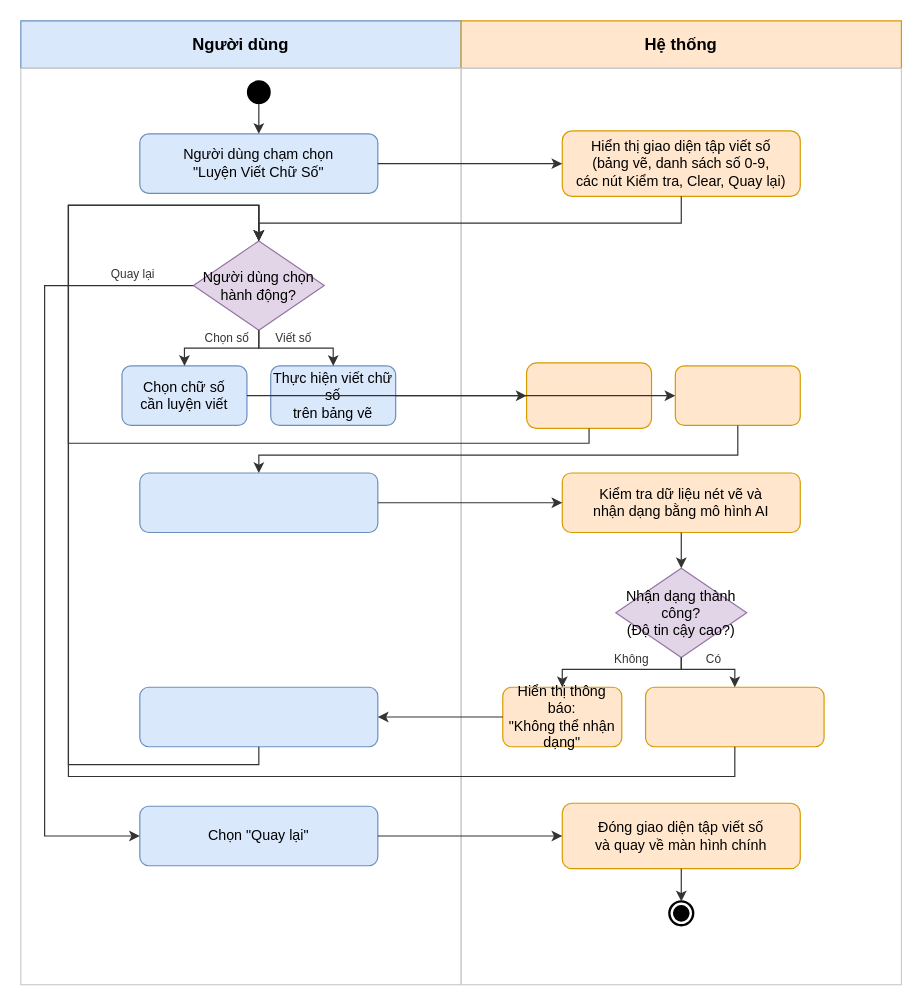
This 922x1006 diagram has some shape labels left out. Here are the shapes that lost their labels. From the top down, the centre of each, then its label:
point 588,395: Cập nhật chữ số mẫu tương ứng và làm mới bảng vẽ
point 737,395: Ghi nhận nét vẽ và hiển thị nét viết theo thời gian thực
point 258,502: Chọn "Kiểm tra" để yêu cầu nhận dạng chữ số
point 258,716: Tương tác trên thông báo: Chọn "Viết lại" (Xóa bảng) hoặc chọn "Đóng"
point 734,716: Hiển thị kết quả đánh giá (Chúc mừng nếu Đúng / Động viên tập lại nếu Sai)
